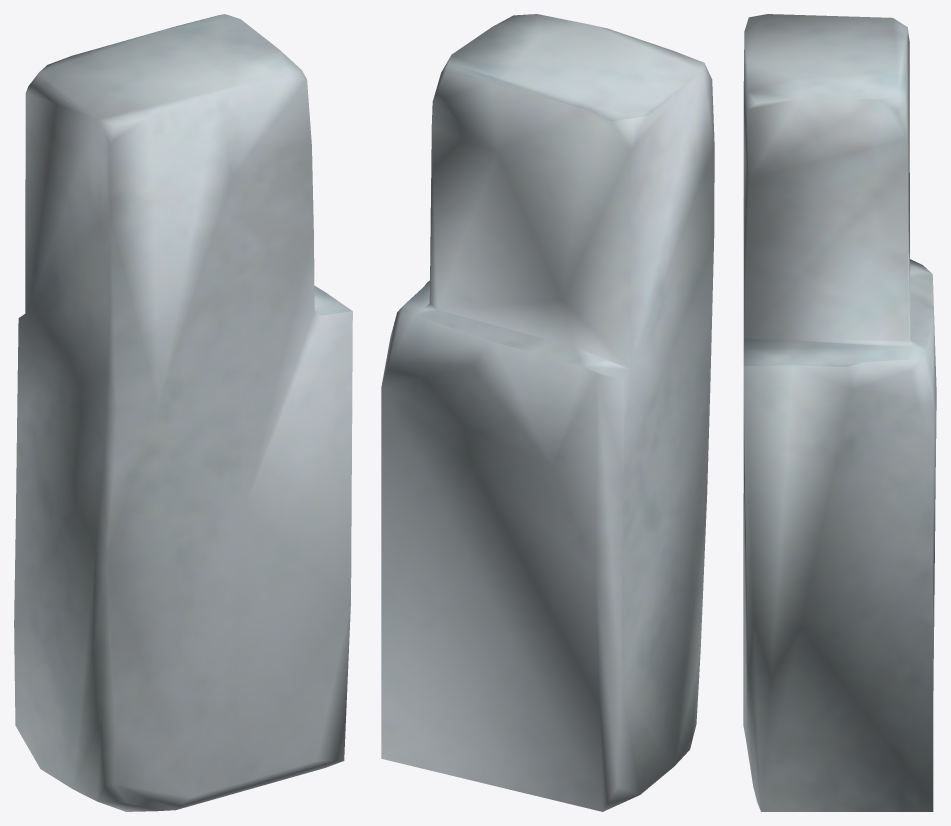
The model's file is P_CubicCliffPiece15.obj.
3 views of the same model, side by side, from view 1: azimuth 30°, elevation 25°; view 2: azimuth 150°, elevation 25°; view 3: azimuth 270°, elevation 25° (orthographic). The views are drawn at different scales.
Size of the model in its own units: 16.41 by 45.65 by 11.55.
